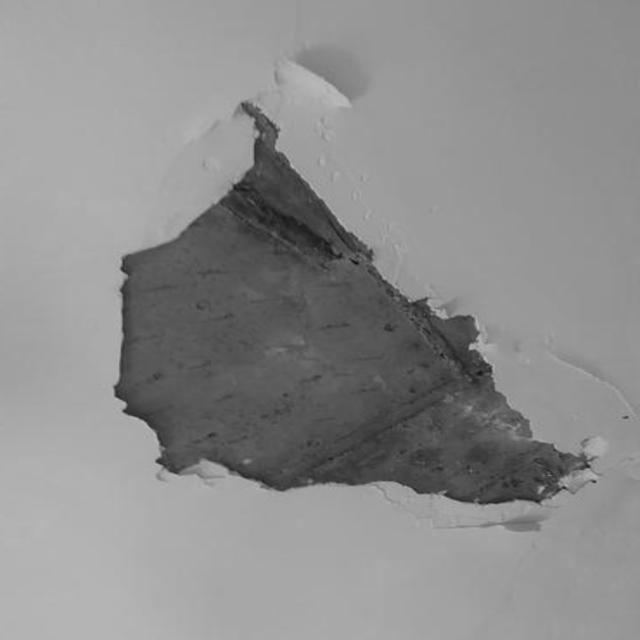peeling paint: (33, 48, 640, 547)
